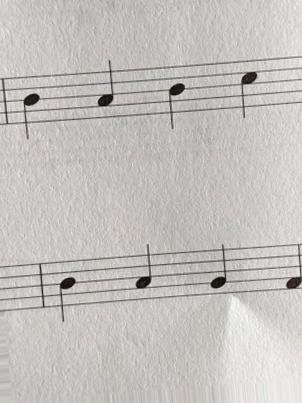A: (93, 56, 117, 126), (132, 242, 156, 307)
B: (53, 254, 84, 327), (18, 72, 46, 143), (165, 64, 191, 134)
F: (284, 239, 302, 296)
G: (206, 237, 232, 305)
HC: (235, 55, 261, 126)
